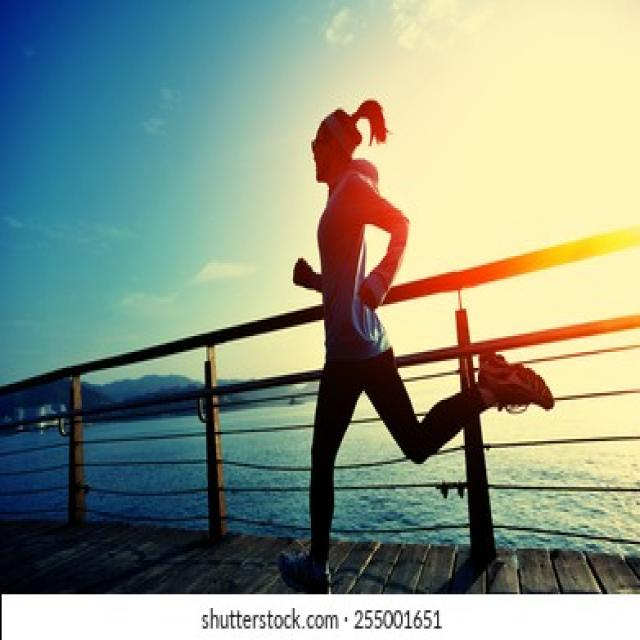running: (277, 99, 563, 593)
